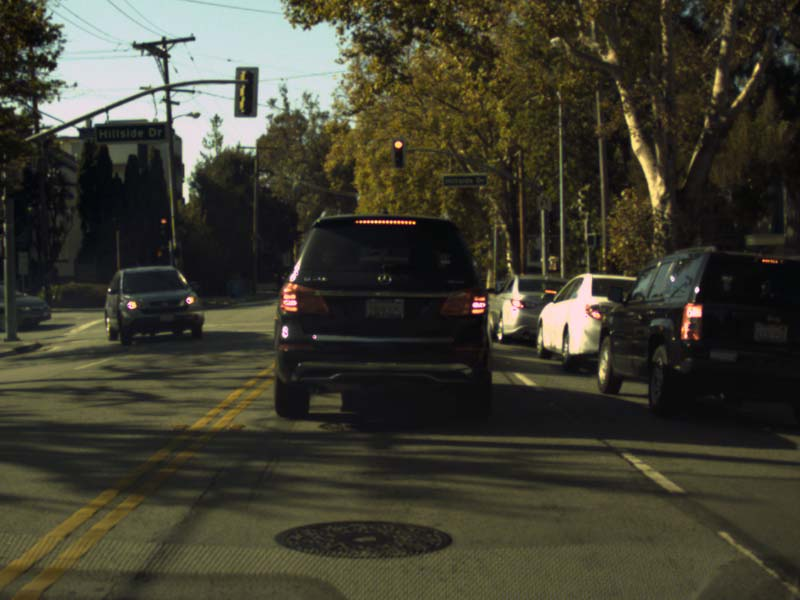Red: (391, 138, 405, 167), (158, 218, 169, 237)
